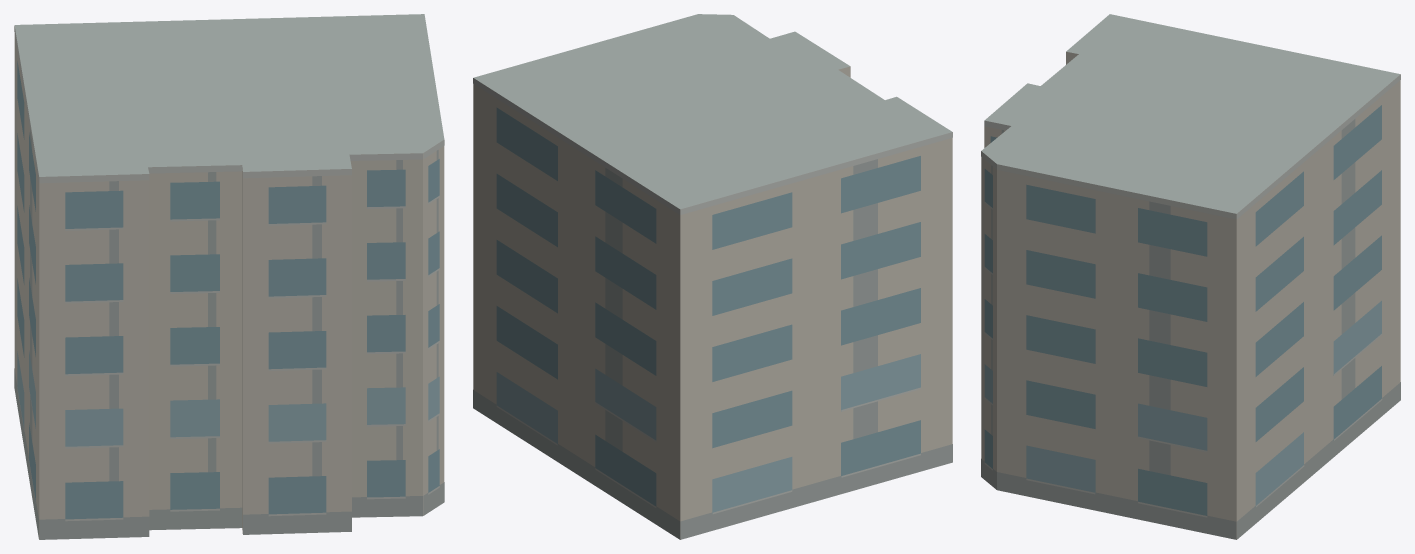
File: survey-upis-32945087.glb
3 views of the same model, side by side, from view 1: azimuth 30°, elevation 25°; view 2: azimuth 150°, elevation 25°; view 3: azimuth 270°, elevation 25° (orthographic). The views are drawn at different scales.
Visible parts, largest first — view 1: survey-upis-32945087.tmp; view 2: survey-upis-32945087.tmp; view 3: survey-upis-32945087.tmp.
Boxes of the visible parts, x1,y1,x2,y2 form: survey-upis-32945087.tmp: [14, 14, 444, 539]; survey-upis-32945087.tmp: [473, 14, 952, 539]; survey-upis-32945087.tmp: [981, 14, 1400, 539].
Bounding box in the file's own units: 18.42 × 14 × 16.34.
